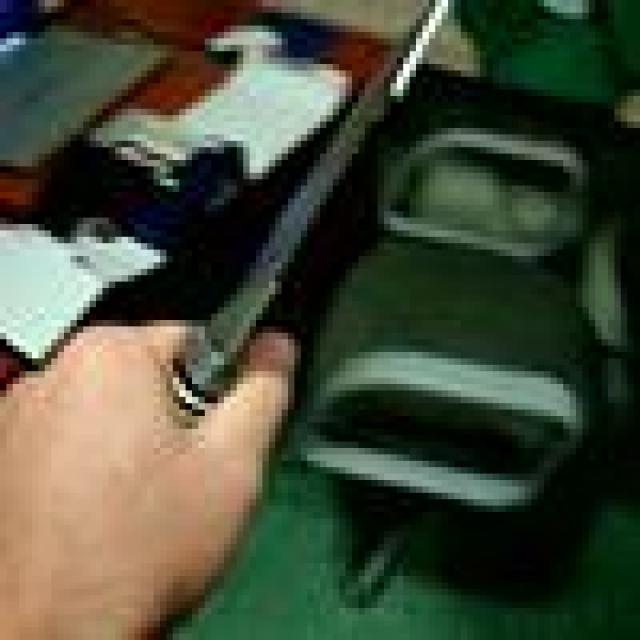knife: (188, 1, 452, 391)
